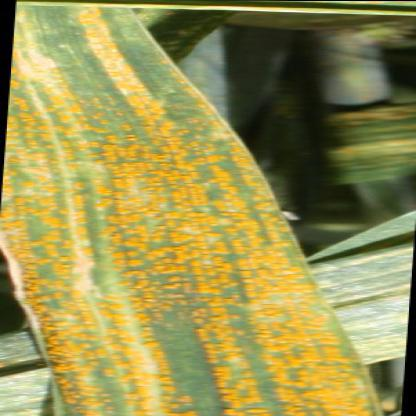Wheat-Yellow-rust: (25, 30, 125, 305), (160, 108, 236, 356), (50, 316, 170, 410), (222, 358, 360, 415), (268, 252, 326, 349), (53, 7, 115, 22)
